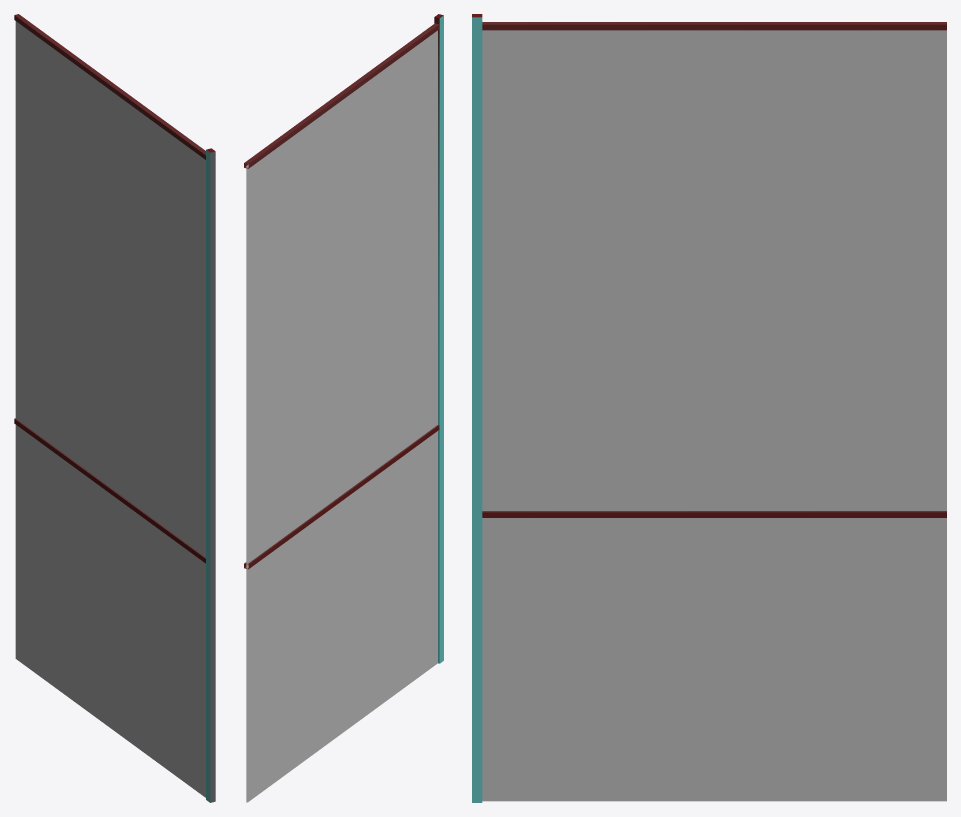
Rendered from SM_Fence_01.FBX.
3 views of the same model, side by side, from view 1: azimuth 30°, elevation 25°; view 2: azimuth 150°, elevation 25°; view 3: azimuth 270°, elevation 25° (orthographic). The views are drawn at different scales.
Parts seen in each view (by area): view 1: SM_Fence_01; view 2: SM_Fence_01; view 3: SM_Fence_01.
Boxes of the visible parts, left/top/right/bottom form: SM_Fence_01: left=14, top=14, right=215, bottom=802; SM_Fence_01: left=244, top=14, right=443, bottom=802; SM_Fence_01: left=472, top=14, right=946, bottom=802.
Bounding box in the file's own units: 0.06 × 6.83 × 3.74.
